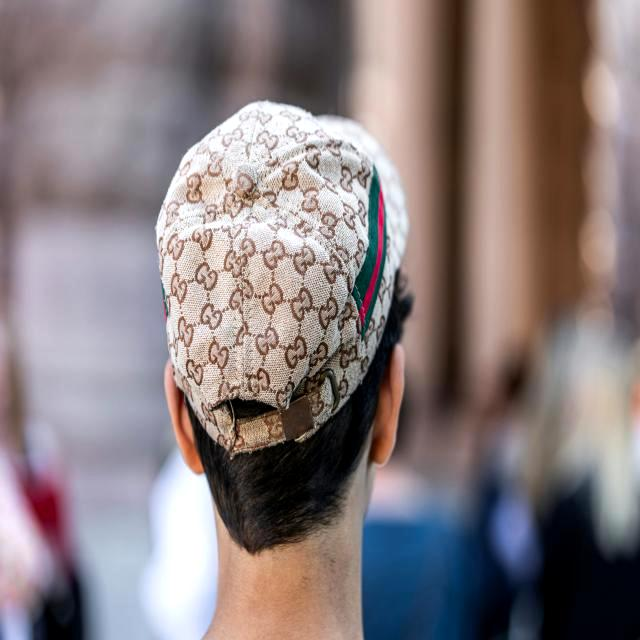no_hard_hat: (156, 101, 409, 458)
person: (155, 100, 417, 639)
